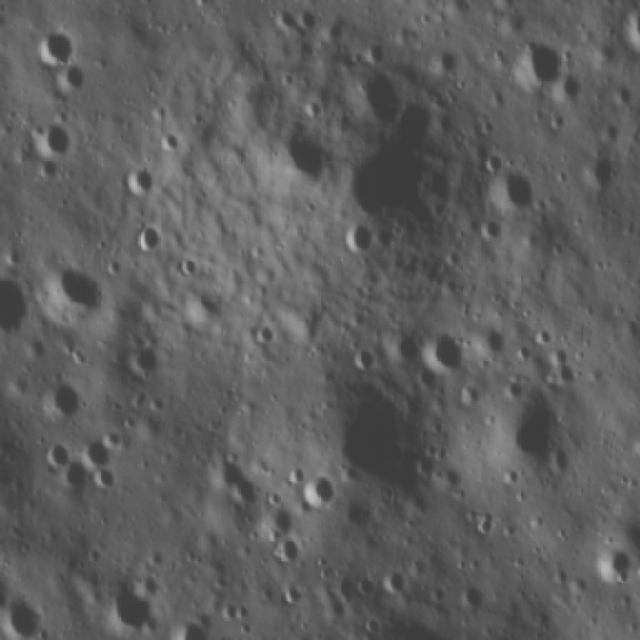crater: (320, 376, 446, 510), (336, 131, 441, 218), (497, 388, 563, 468), (272, 114, 330, 188), (212, 445, 265, 517), (48, 262, 110, 323), (510, 32, 564, 100), (355, 58, 408, 122), (101, 580, 159, 635), (486, 167, 540, 215), (383, 320, 431, 368), (426, 323, 471, 374), (590, 538, 635, 585), (31, 25, 78, 69), (40, 373, 80, 422), (3, 591, 43, 640), (299, 466, 339, 514), (339, 217, 381, 258), (576, 148, 618, 189), (23, 120, 72, 155), (56, 58, 98, 98), (122, 158, 160, 198), (80, 428, 114, 472), (476, 320, 510, 363), (128, 221, 164, 254), (273, 536, 305, 570), (45, 433, 72, 470), (608, 78, 638, 110), (459, 580, 486, 614), (624, 0, 640, 55), (561, 69, 584, 106), (384, 567, 410, 599), (278, 580, 305, 609), (478, 218, 508, 244)
